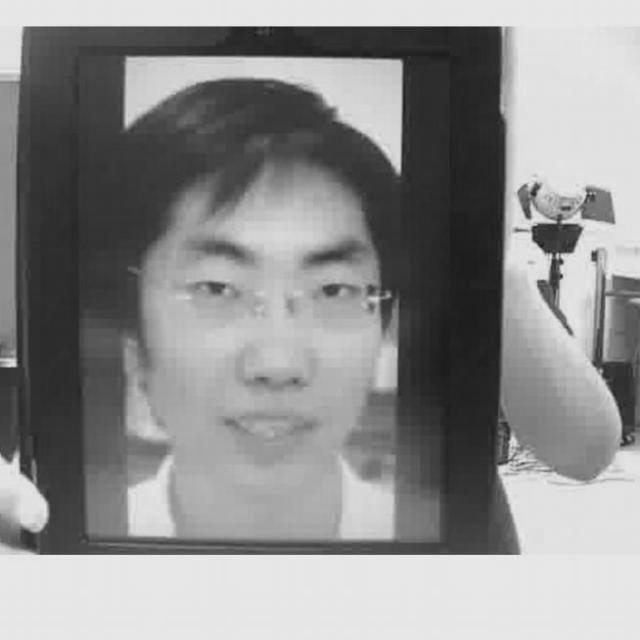fake: (4, 25, 512, 553)
